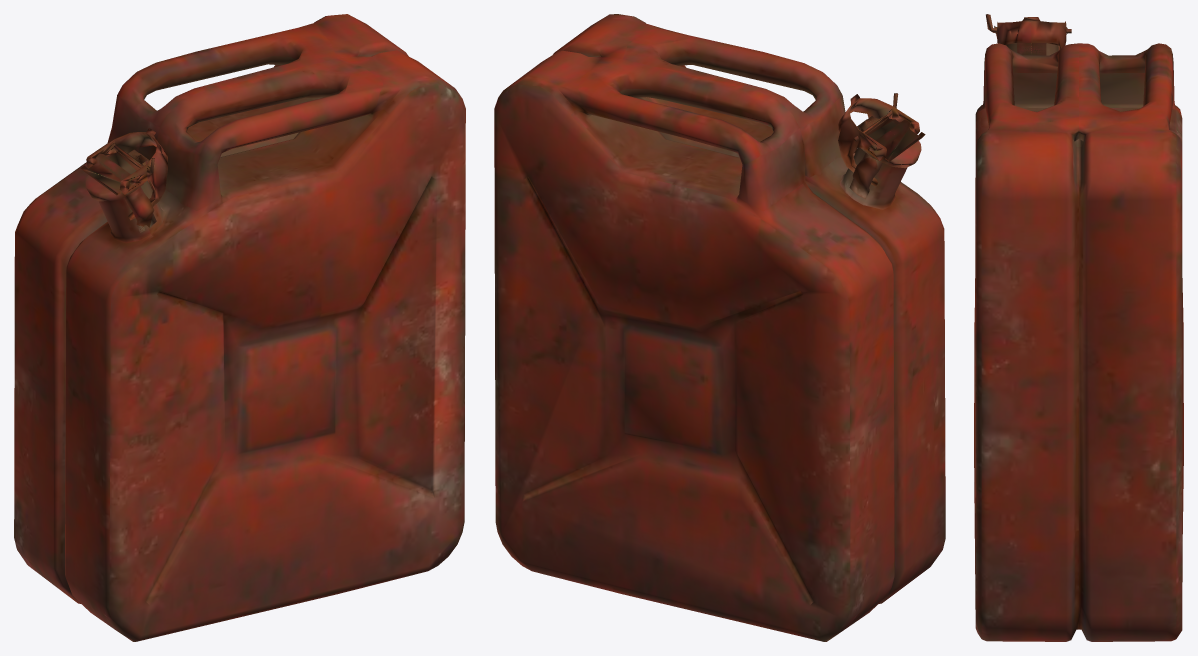
Rendered from metal_jerrycan.glb.
The picture shows the model from 3 angles, left to right: view 1: azimuth 30°, elevation 25°; view 2: azimuth 150°, elevation 25°; view 3: azimuth 270°, elevation 25°; orthographic projection. The views are drawn at different scales.
Visible parts, largest first — view 1: metal_jerrycan; view 2: metal_jerrycan; view 3: metal_jerrycan.
Part boxes in pixels (x1=…): metal_jerrycan: x1=14, y1=14, x2=465, y2=641; metal_jerrycan: x1=494, y1=14, x2=945, y2=641; metal_jerrycan: x1=974, y1=14, x2=1183, y2=641.
Bounding box in the file's own units: 0.3492 × 0.4547 × 0.1718.
1 material, 1 textured.
